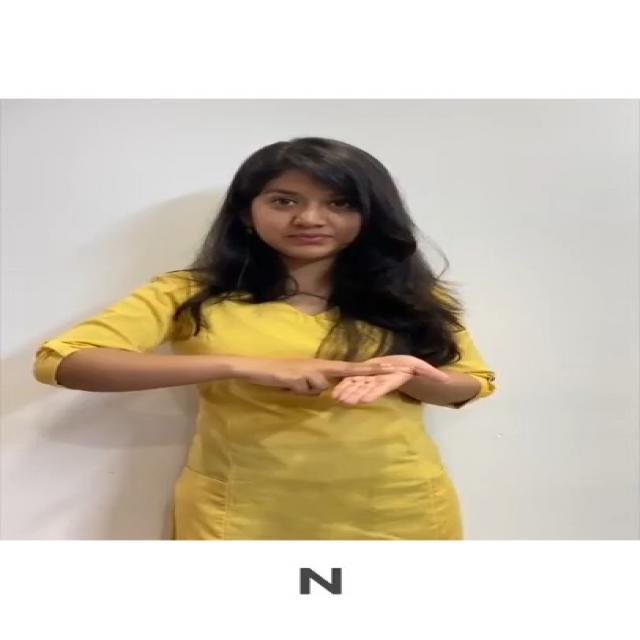N: (210, 347, 474, 421)
